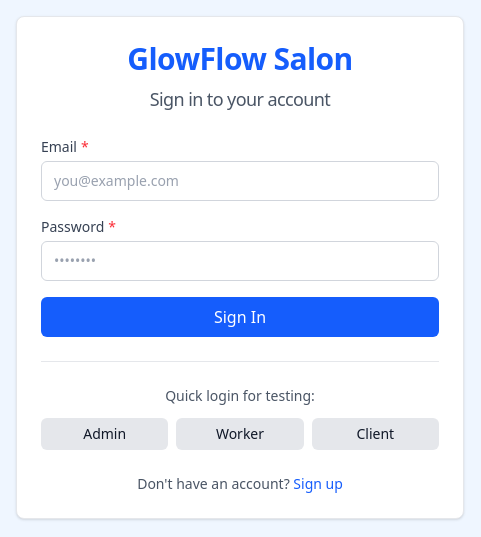
Scenario: Login Component › disables submit button while loading
Type "admin@test.com" into the field labelled "Email*" at (240, 180), box x1=41 y1=160 x2=439 y2=200
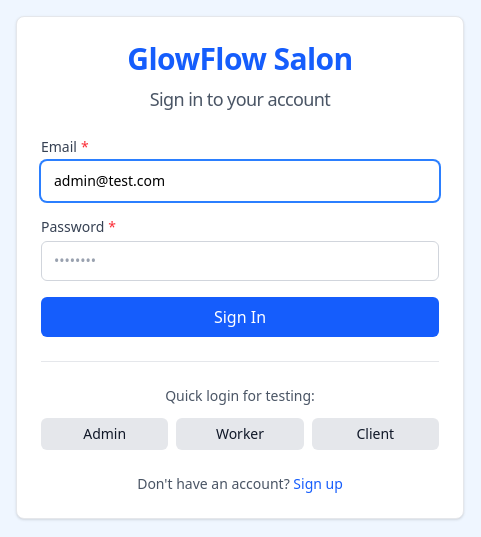
Type "123456" into the password field labelled "Password*" at (240, 260), box x1=41 y1=240 x2=439 y2=280
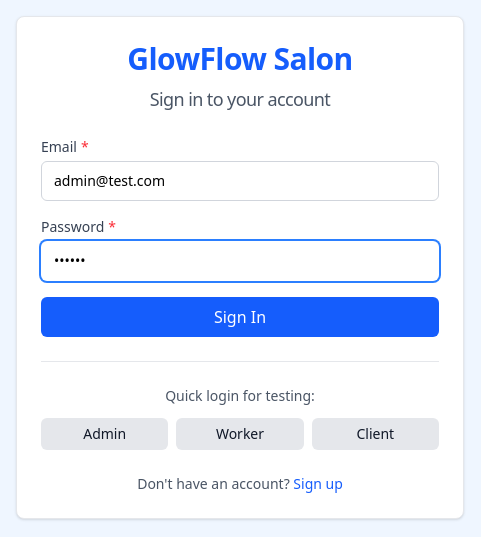
Click the button "Sign In" at (240, 316), box x1=41 y1=296 x2=439 y2=336
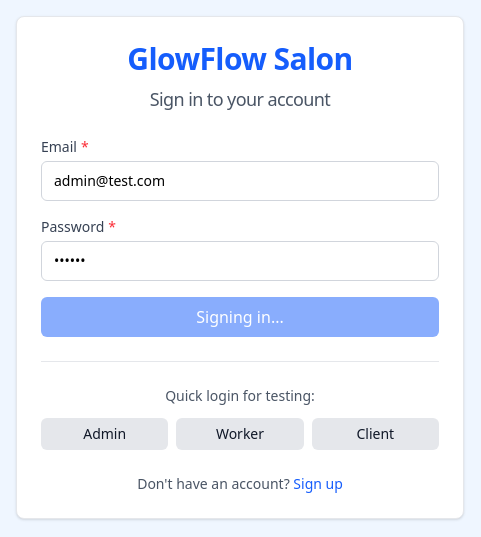
Expected: the button "Signing in..." is disabled, x1=41 y1=296 x2=439 y2=336
